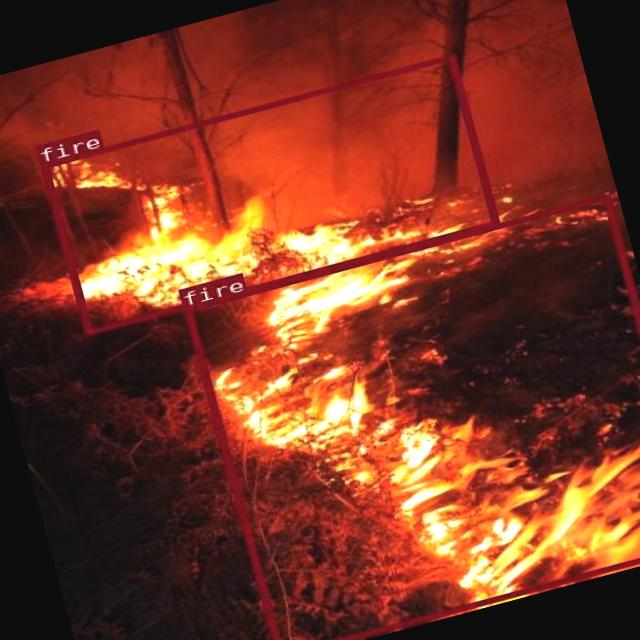fire: (182, 193, 640, 640), (39, 53, 498, 334)
